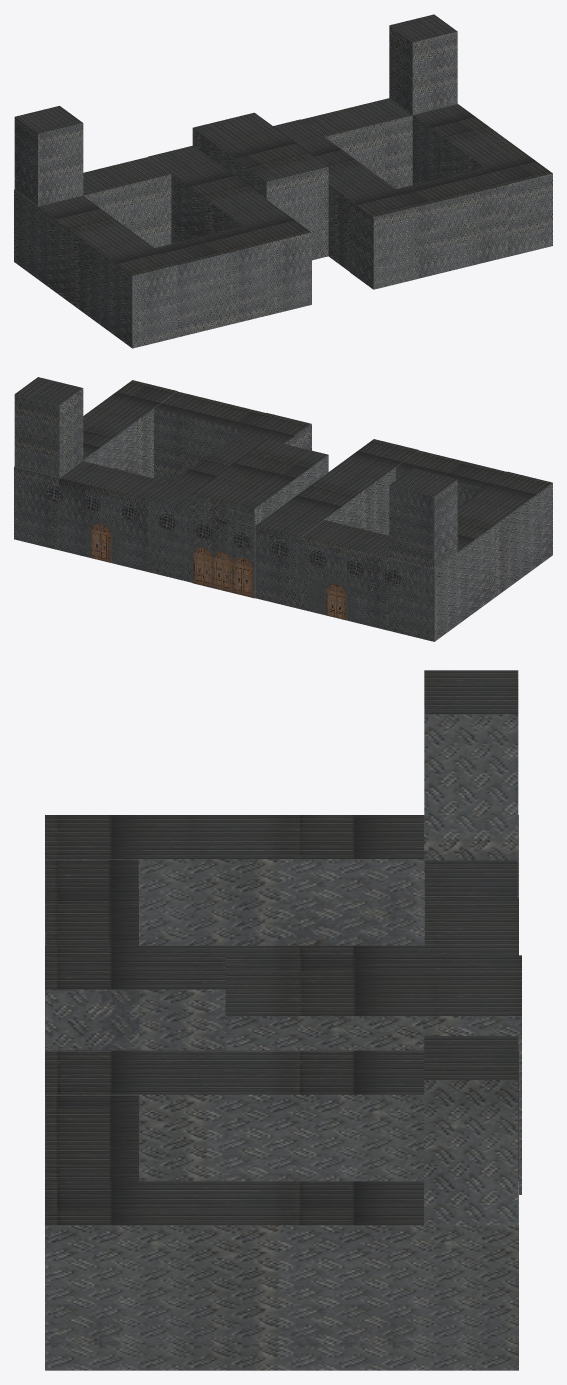
Rendered from ub_lvl2_max.fbx.
The picture shows the model from 3 angles, top to bottom: view 1: azimuth 30°, elevation 25°; view 2: azimuth 150°, elevation 25°; view 3: azimuth 270°, elevation 25°; orthographic projection. The views are drawn at different scales.
Visible parts, largest first — view 1: EntradaCentro.006; view 2: EntradaCentro.006; view 3: EntradaCentro.006.
Part boxes in pixels (x1,y1,x2,y2): EntradaCentro.006: (14, 14, 552, 348); EntradaCentro.006: (14, 377, 552, 641); EntradaCentro.006: (45, 670, 521, 1370).
Size of the model in its own units: 7867 by 2595 by 3863.
